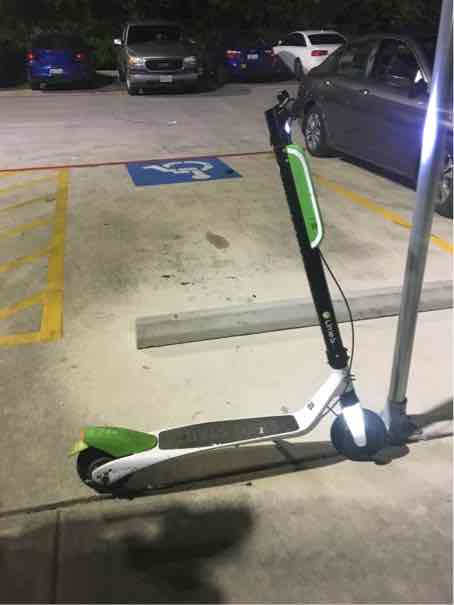scooter: (59, 89, 395, 500)
